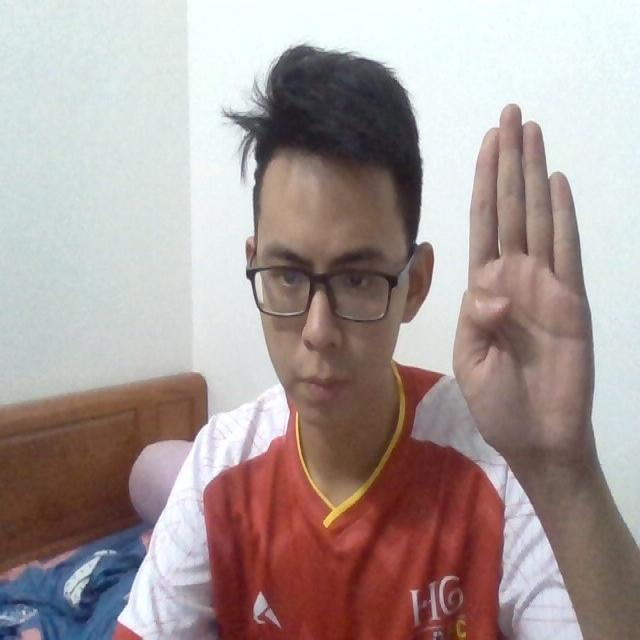B: (448, 102, 592, 470)
